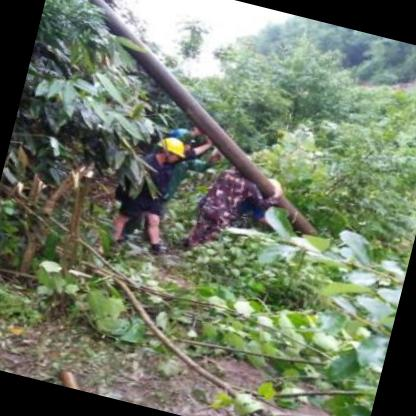bee: (148, 130, 188, 168)
